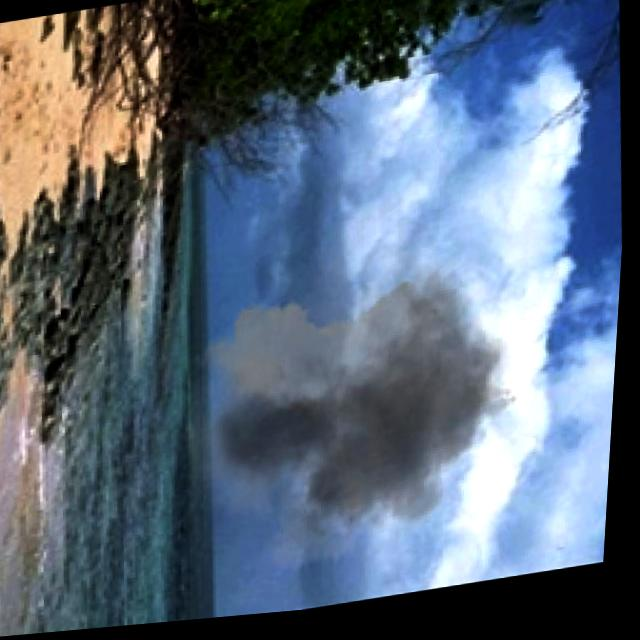no_helmet: (183, 198, 538, 606)
